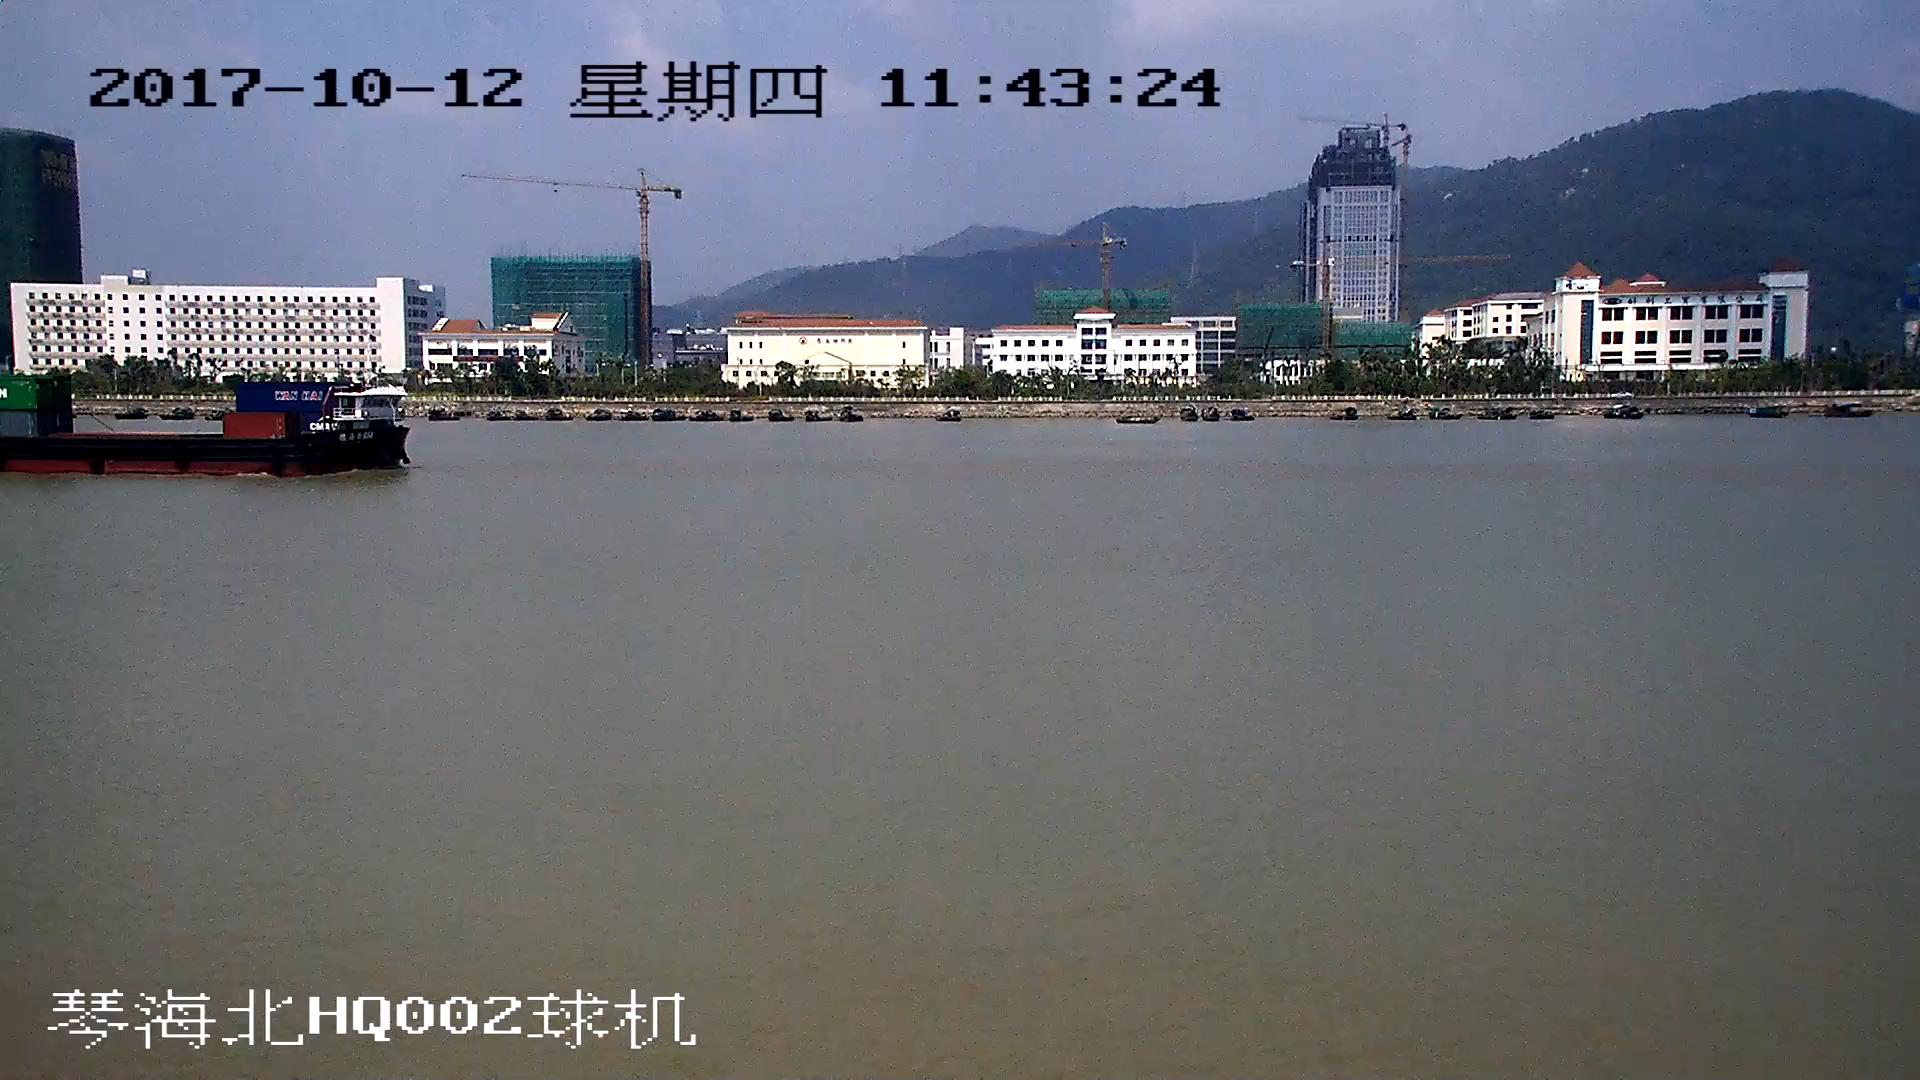container ship: (1, 374, 409, 478)
